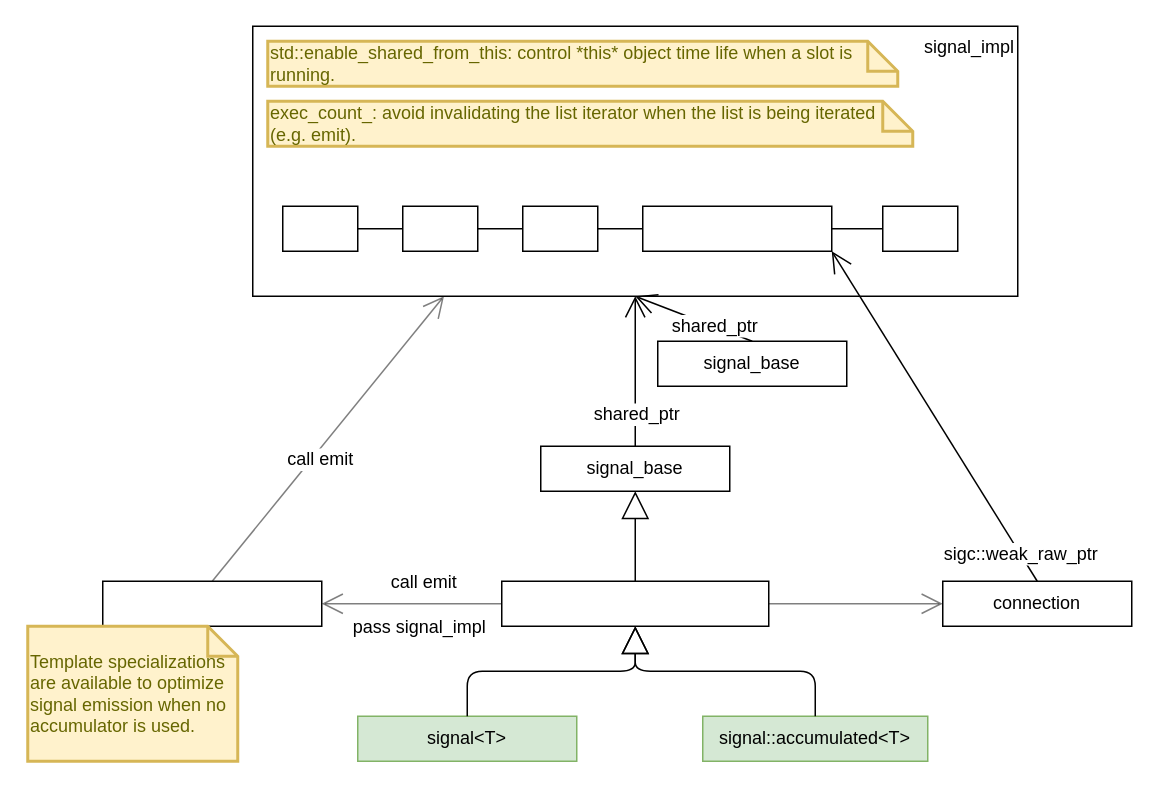
This 1158x789 diagram has some shape labels left out. Each missing label, with the centre of its shape:
"internal::signal_emit<T>" goes at (x=211, y=603).
"signal_with_accumulator<T>" goes at (x=634, y=603).
"slot_base" goes at (x=736, y=228).
